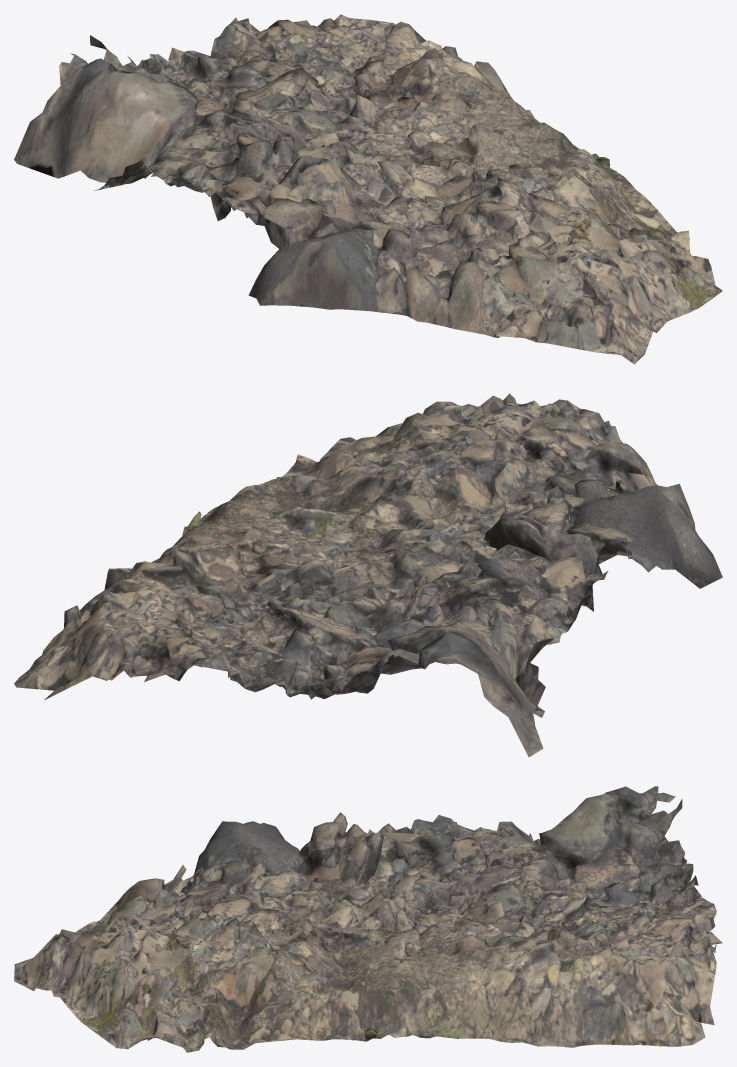
Rendered from SM_RocksGround.fbx.
3 views of the same model, one above another, from view 1: azimuth 30°, elevation 25°; view 2: azimuth 150°, elevation 25°; view 3: azimuth 270°, elevation 25° (orthographic). The views are drawn at different scales.
Visible parts, largest first — view 1: SM_RocksGround_LOD0; view 2: SM_RocksGround_LOD0; view 3: SM_RocksGround_LOD0.
Boxes of the visible parts, x1,y1,x2,y2 form: SM_RocksGround_LOD0: [14, 14, 722, 364]; SM_RocksGround_LOD0: [14, 393, 722, 757]; SM_RocksGround_LOD0: [14, 786, 722, 1052].
Size of the model in its own units: 210 by 308 by 50.99.
1 material, 1 textured.
